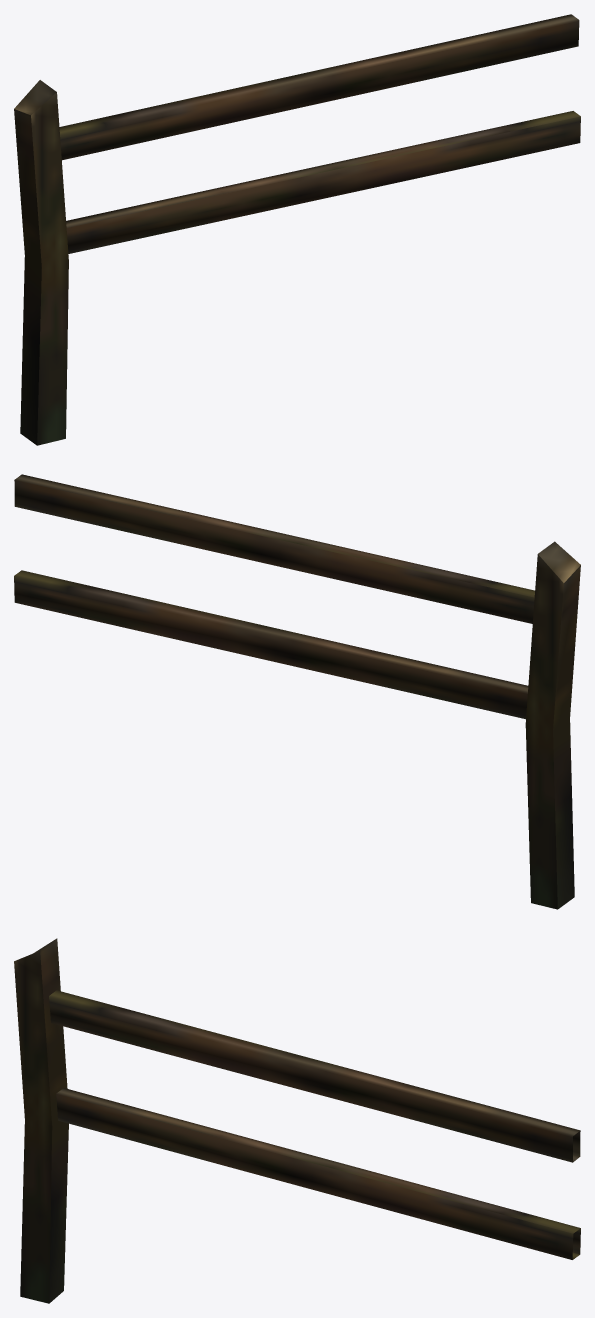
The model's file is general_obj_fence03_01.fbx.
The picture shows the model from 3 angles, top to bottom: view 1: azimuth 30°, elevation 25°; view 2: azimuth 150°, elevation 25°; view 3: azimuth 330°, elevation 25°; orthographic projection.
Parts seen in each view (by area): view 1: Sphere01; view 2: Sphere01; view 3: Sphere01.
Boxes of the visible parts, x1=… form: Sphere01: x1=14, y1=14, x2=580, y2=445; Sphere01: x1=14, y1=474, x2=580, y2=909; Sphere01: x1=14, y1=938, x2=580, y2=1303.
Size of the model in its own units: 3.77 by 2.27 by 0.2005.
